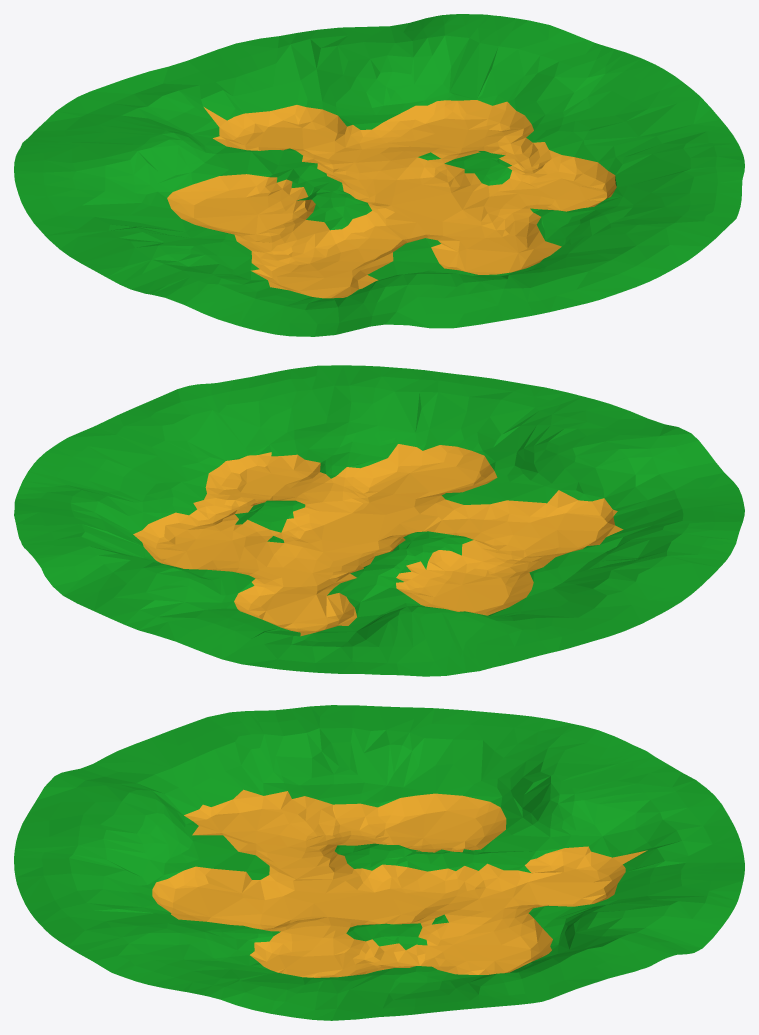
Rendered from Level2.fbx.
3 renders of one model, top to bottom at view 1: azimuth 30°, elevation 25°; view 2: azimuth 150°, elevation 25°; view 3: azimuth 270°, elevation 25°, orthographic. The views are drawn at different scales.
Parts seen in each view (by area): view 1: Plane; view 2: Plane; view 3: Plane.
Boxes of the visible parts, x1,y1,x2,y2 form: Plane: (14, 14, 744, 336); Plane: (14, 365, 744, 676); Plane: (14, 705, 744, 1020).
Size of the model in its own units: 14630 by 1010 by 14300.
